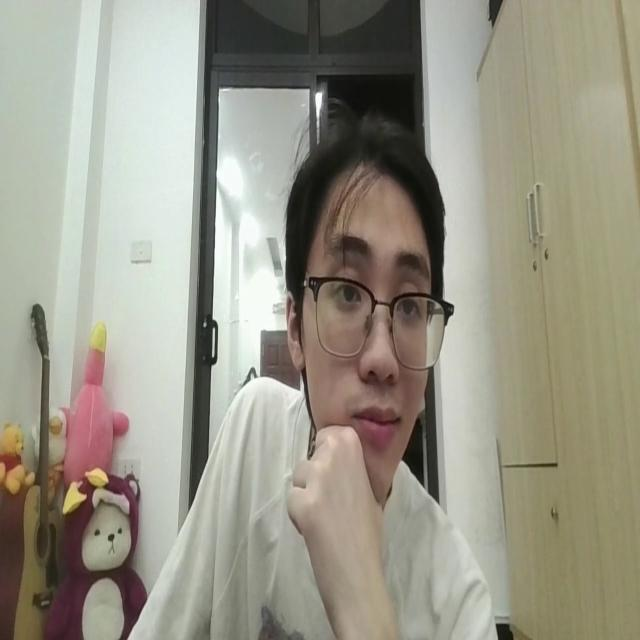student: (126, 110, 496, 640)
